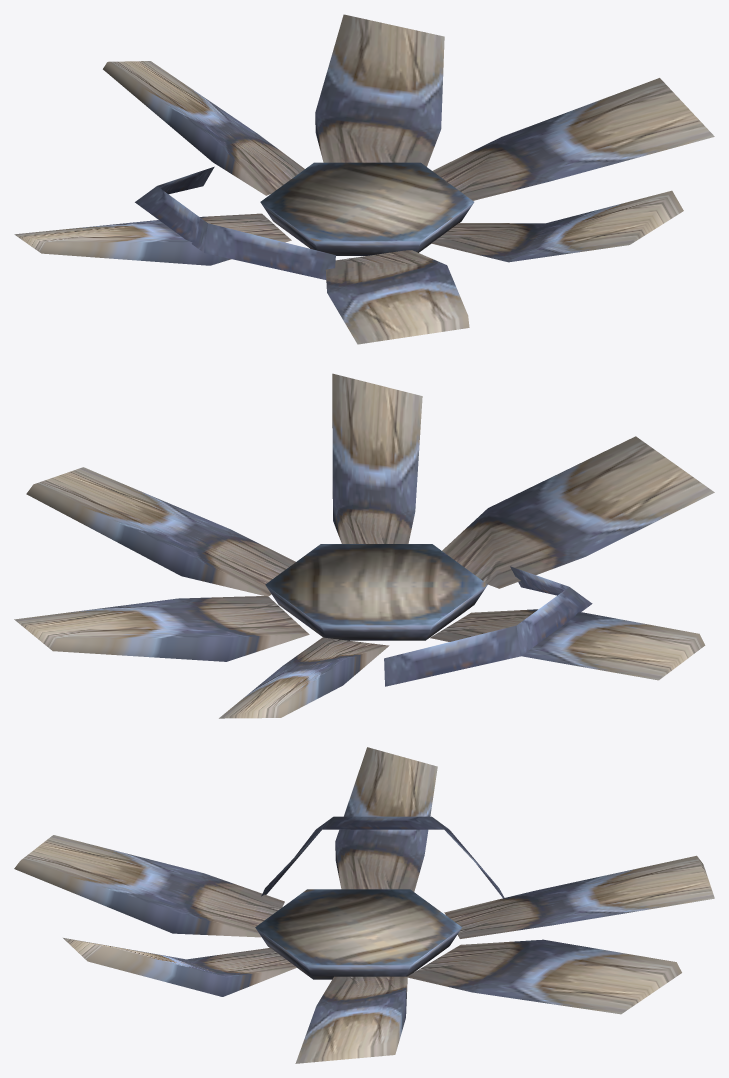
Rendered from be_barrel_broken_01.obj.
3 renders of one model, top to bottom at view 1: azimuth 30°, elevation 25°; view 2: azimuth 150°, elevation 25°; view 3: azimuth 270°, elevation 25°, orthographic. The views are drawn at different scales.
Visible parts, largest first — view 1: be_barrel_broken_01; view 2: be_barrel_broken_01; view 3: be_barrel_broken_01.
Part boxes in pixels (x1,y1,x2,y2): be_barrel_broken_01: [14, 14, 714, 344]; be_barrel_broken_01: [14, 373, 714, 718]; be_barrel_broken_01: [14, 747, 714, 1063].
Size of the model in its own units: 2.64 by 0.3366 by 2.6.
1 material, 1 textured.
